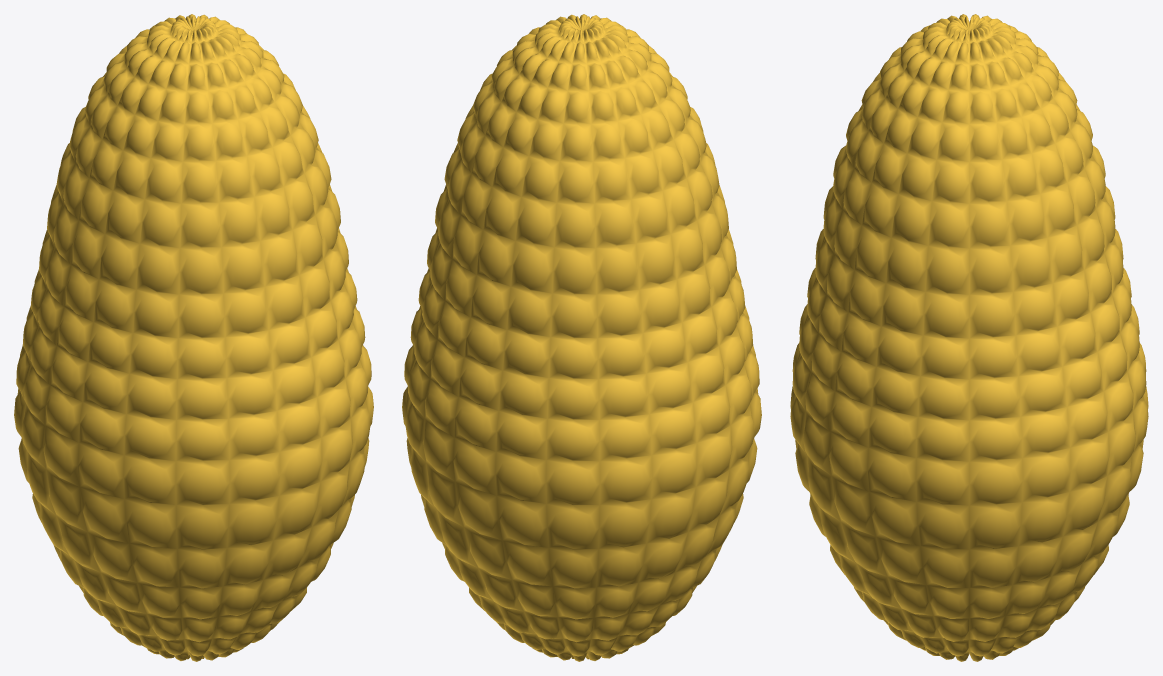
The model's file is milho.fbx.
The picture shows the model from 3 angles, left to right: view 1: azimuth 30°, elevation 25°; view 2: azimuth 150°, elevation 25°; view 3: azimuth 270°, elevation 25°; orthographic projection.
Parts seen in each view (by area): view 1: Mih; view 2: Mih; view 3: Mih.
Part boxes in pixels (x1,y1,x2,y2): Mih: (14,14,373,661); Mih: (402,14,761,661); Mih: (790,14,1148,661).
Size of the model in its own units: 244 by 471 by 244.
